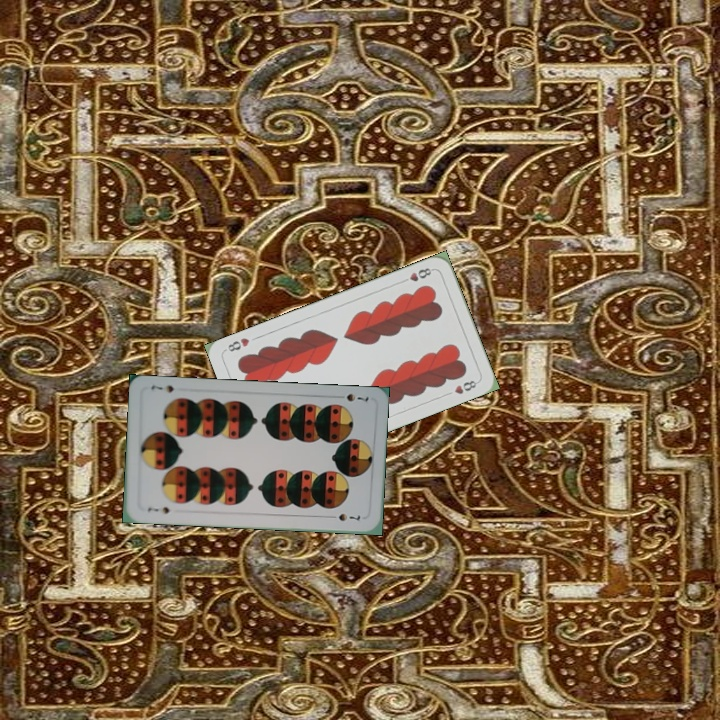H8: (397, 264, 436, 286)
S7: (332, 390, 371, 404), (143, 503, 172, 516)
